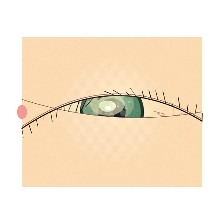corneal_ulcer: (79, 82, 135, 127)
